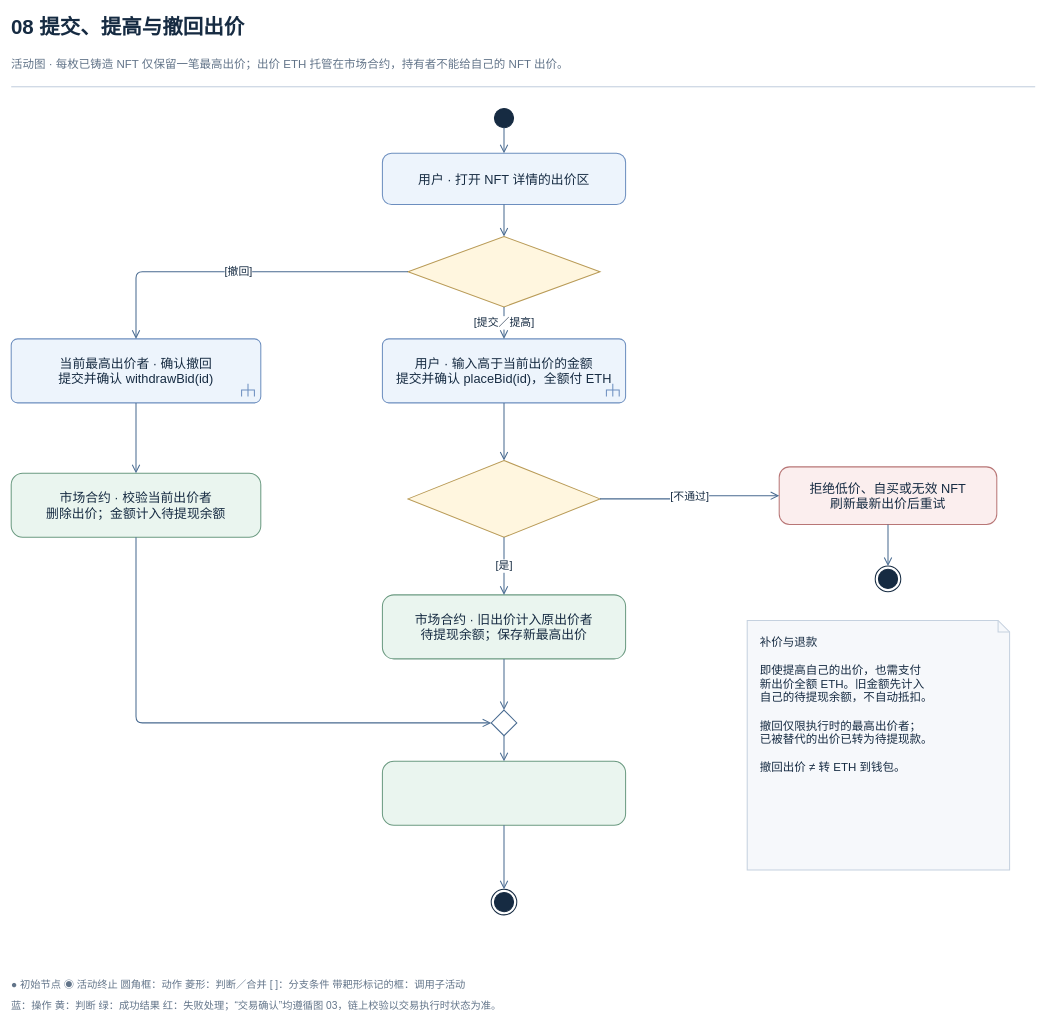
Image size: 1046x1025. Some labels were removed from this diagram. The shapes that lost their labels are listed below. From the top down, each one's centre as x and y in pixels, then its label:
At point 503,271: "出价，还是撤回？".
At point 503,498: "非持有者且出价更高？".
At point 504,792: "前端 · 刷新最高出价与个人余额 退回资金需另行提现（图 10）".
